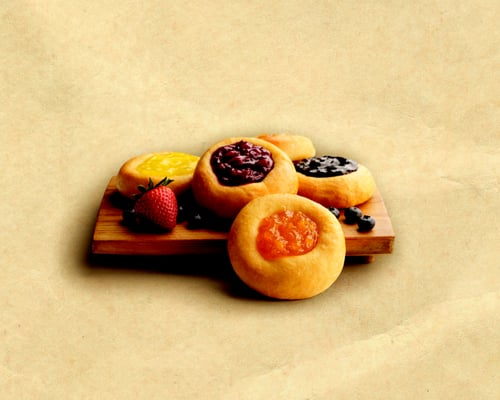taco: (228, 193, 348, 300)
